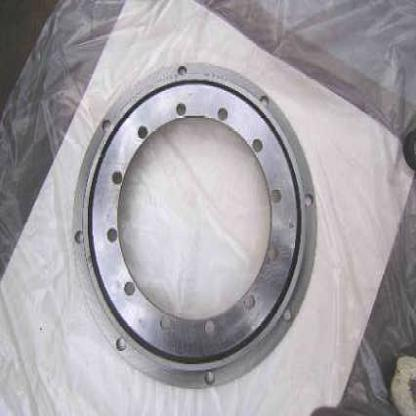FOD: (66, 58, 322, 398)
